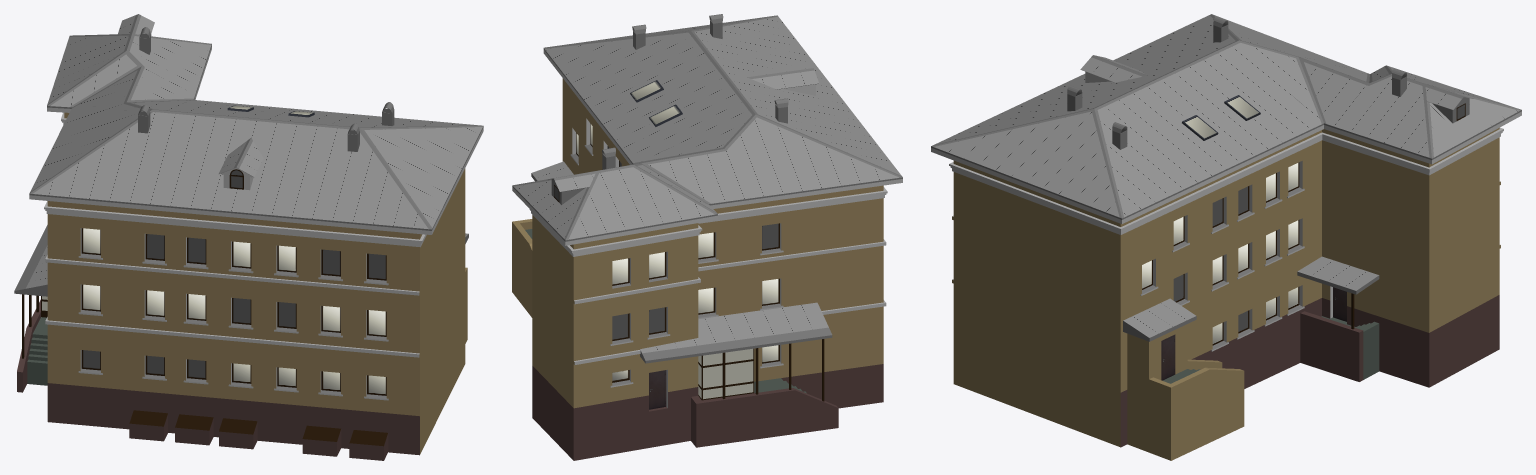
3 views of the same model, side by side, from view 1: azimuth 30°, elevation 25°; view 2: azimuth 150°, elevation 25°; view 3: azimuth 270°, elevation 25° (orthographic). The views are drawn at different scales.
Visible parts, largest first — view 1: 01020-50@110651; view 2: 01020-50@110651; view 3: 01020-50@110651.
Boxes of the visible parts, <box> form: 01020-50@110651: <box>14,14,483,460</box>; 01020-50@110651: <box>512,14,902,460</box>; 01020-50@110651: <box>931,14,1521,460</box>.
Bounding box in the file's own units: 23.33 × 15.3 × 27.93.
1 material, 1 textured.
